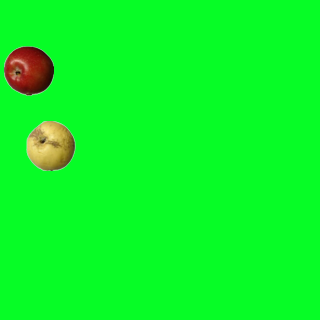Apple Braeburn: (3, 45, 53, 95)
Apple Golden 1: (25, 120, 75, 170)
